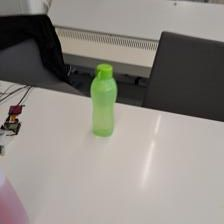bottle: (88, 59, 121, 136)
